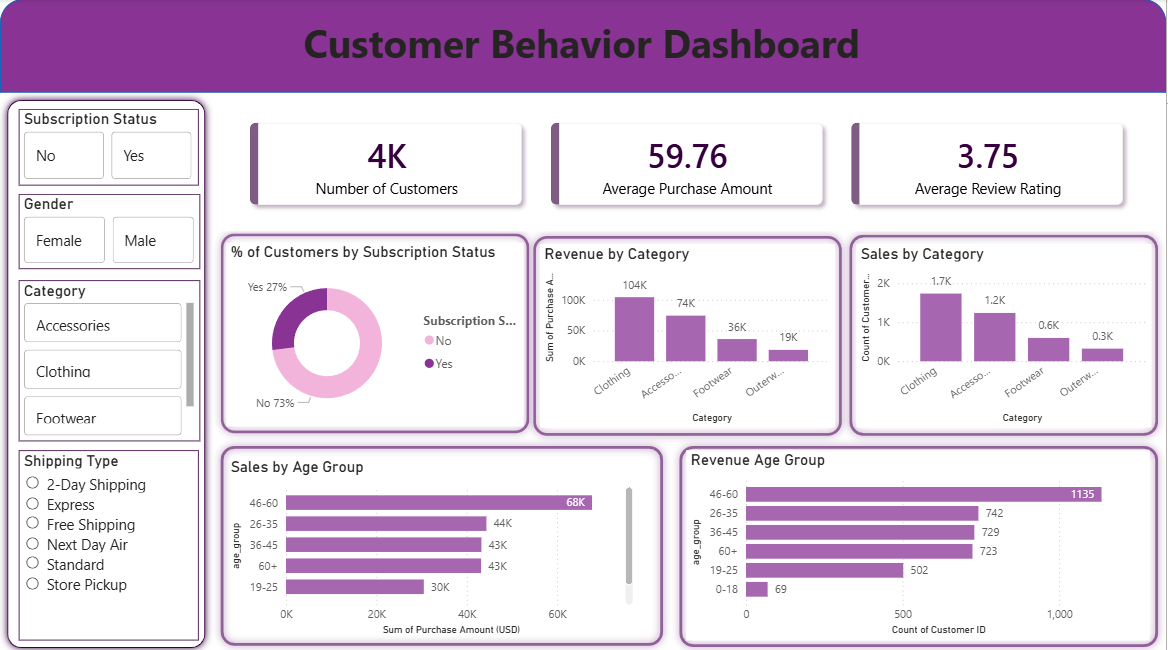

The page's visual inventory and layout, read from the dashboard file:
{"tool":"powerbi","page":{"name":"Page 1","canvas":[1280,720],"ordinal":0},"visuals":[{"type":"shape","box":[0,0,1280.3,102.9],"z":0},{"type":"textbox","box":[24.7,13.7,1228.1,89.2],"z":1000},{"type":"shape","box":[233.3,248.4,356.8,237.4],"z":2000},{"type":"donutChart","title":"% of Customers by Subscription Status","fields":{"Category":["public customer.Subscription Status"],"Y":["CountNonNull(public customer.Customer ID)"]},"box":[248.4,267.6,326.6,201.7],"z":3000},{"type":"shape","box":[576.3,251.1,356.8,237.4],"z":4000},{"type":"clusteredColumnChart","title":"Revenue by Category","fields":{"Category":["public customer.Category"],"Y":["Sum(public customer.Purchase Amount (USD))"]},"box":[592.8,269,323.8,201.7],"z":5000},{"type":"shape","box":[923.5,249.7,356.8,238.8],"z":6000},{"type":"clusteredColumnChart","title":"Sales by Category","fields":{"Category":["public customer.Category"],"Y":["CountNonNull(public customer.Customer ID)"]},"box":[940,269,323.8,201.7],"z":7000},{"type":"shape","box":[0,102.9,233.3,617.5],"z":8000},{"type":"advancedSlicerVisual","title":"Gender","fields":{"Values":["public customer.Gender"]},"box":[20.6,214.1,199,82.3],"z":9000},{"type":"advancedSlicerVisual","title":"Category","fields":{"Values":["public customer.Category"]},"box":[20.6,308.7,199,177],"z":10000},{"type":"listSlicer","fields":{"Values":["public customer.Shipping Type"]},"box":[20.6,495.4,197.6,208.6],"z":11000},{"type":"clusteredBarChart","title":"Sales by Age Group","fields":{"Category":["public customer.age_group"],"Y":["Sum(public customer.Purchase Amount (USD))"]},"box":[248.4,503.6,451.5,200.3],"z":12000},{"type":"shape","box":[233.3,481.6,503.6,237.4],"z":13000},{"type":"shape","box":[736.9,481.6,543.4,238.8],"z":14000},{"type":"cardVisual","fields":{"Data":["public customer.Number of Customers","public customer.Average Purchase Amount","public customer.Average Review Rating"]},"box":[245.6,107,1018.2,148.2],"z":15000},{"type":"advancedSlicerVisual","fields":{"Values":["public customer.Subscription Status"]},"box":[20.6,120.8,197.6,83.7],"z":16000},{"type":"clusteredBarChart","title":"Revenue Age Group","fields":{"Category":["public customer.age_group"],"Y":["CountNonNull(public customer.Customer ID)"]},"box":[753.3,495.4,509.1,208.6],"z":17000}]}

Visuals, with their boxes in screenshot pixels (x1, y1, x2, y2), scaled from the page's 1280x720 canvas onto the 1168x650 screenshot:
shape: left=0, top=0, right=1167, bottom=93
textbox: left=23, top=12, right=1143, bottom=93
shape: left=213, top=224, right=538, bottom=439
"% of Customers by Subscription Status" donutChart: left=227, top=242, right=525, bottom=424
shape: left=526, top=227, right=851, bottom=441
"Revenue by Category" clusteredColumnChart: left=541, top=243, right=836, bottom=425
shape: left=843, top=225, right=1167, bottom=441
"Sales by Category" clusteredColumnChart: left=858, top=243, right=1153, bottom=425
shape: left=0, top=93, right=213, bottom=649
"Gender" advancedSlicerVisual: left=19, top=193, right=200, bottom=268
"Category" advancedSlicerVisual: left=19, top=279, right=200, bottom=438
listSlicer - public customer.Shipping Type: left=19, top=447, right=199, bottom=636
"Sales by Age Group" clusteredBarChart: left=227, top=455, right=639, bottom=635
shape: left=213, top=435, right=672, bottom=649
shape: left=672, top=435, right=1167, bottom=649
cardVisual - public customer.Number of Customers x public customer.Average Purchase Amount: left=224, top=97, right=1153, bottom=230
advancedSlicerVisual - public customer.Subscription Status: left=19, top=109, right=199, bottom=185
"Revenue Age Group" clusteredBarChart: left=687, top=447, right=1152, bottom=636
